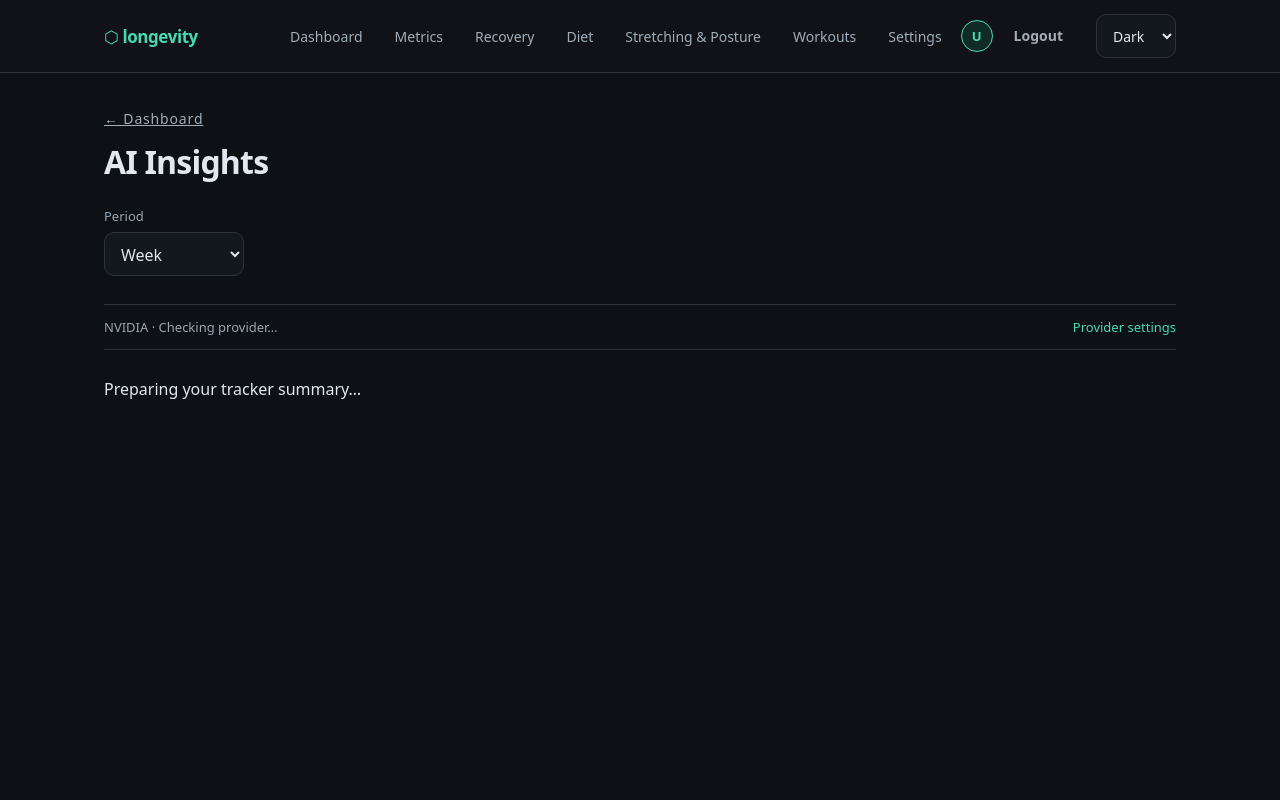
it: uses the selected data period for preview, generation and coverage without retaining another period's suggestions
The width and height of the screenshot is (1280, 800).
Select "Month" in the dropdown named "Data period" at point(174, 254), box [104, 232, 244, 276]
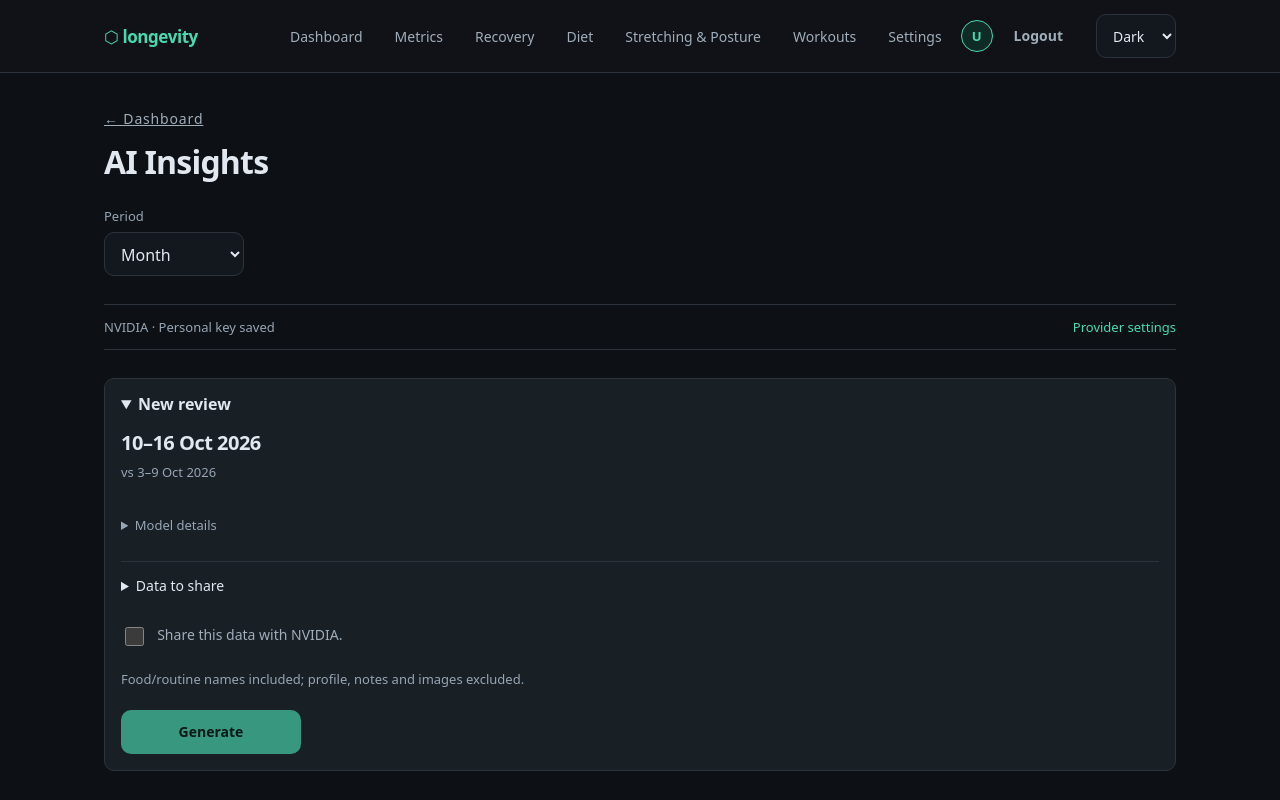
Click the checkbox at point(135, 636), box [125, 627, 144, 646]
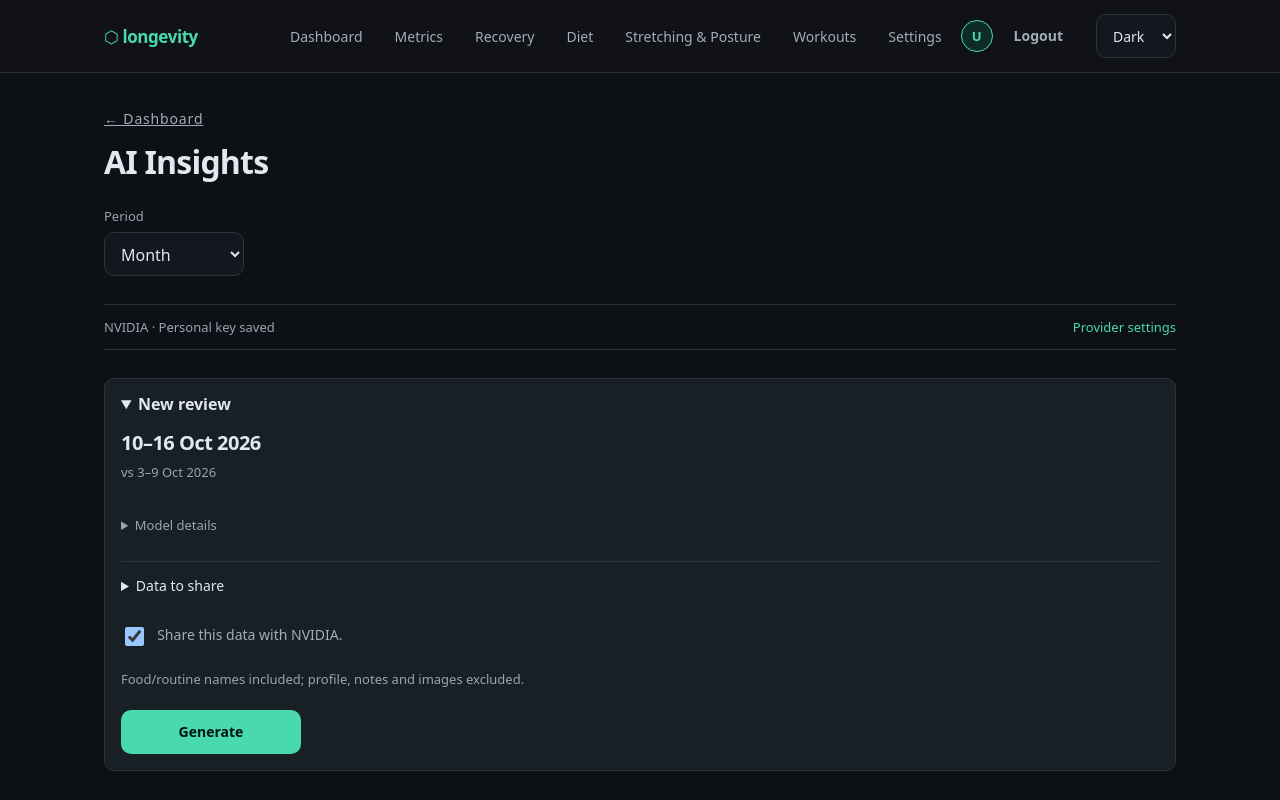
Click the button with aria-label "Generate suggestions" at point(211, 732), box [121, 710, 301, 754]
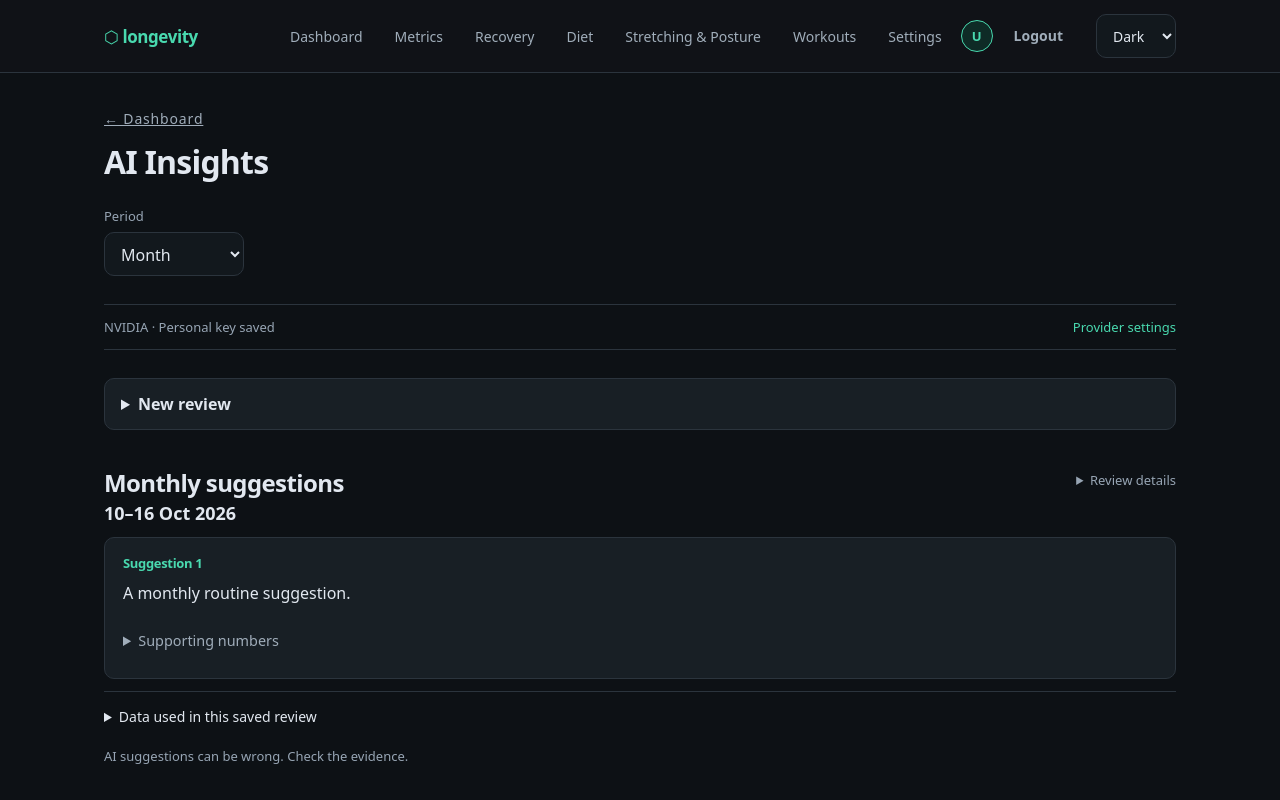
Expected: the text "A monthly routine suggestion." is shown, [123, 582, 350, 604]
Select "Day" in the dropdown named "Data period" at point(174, 254), box [104, 232, 244, 276]
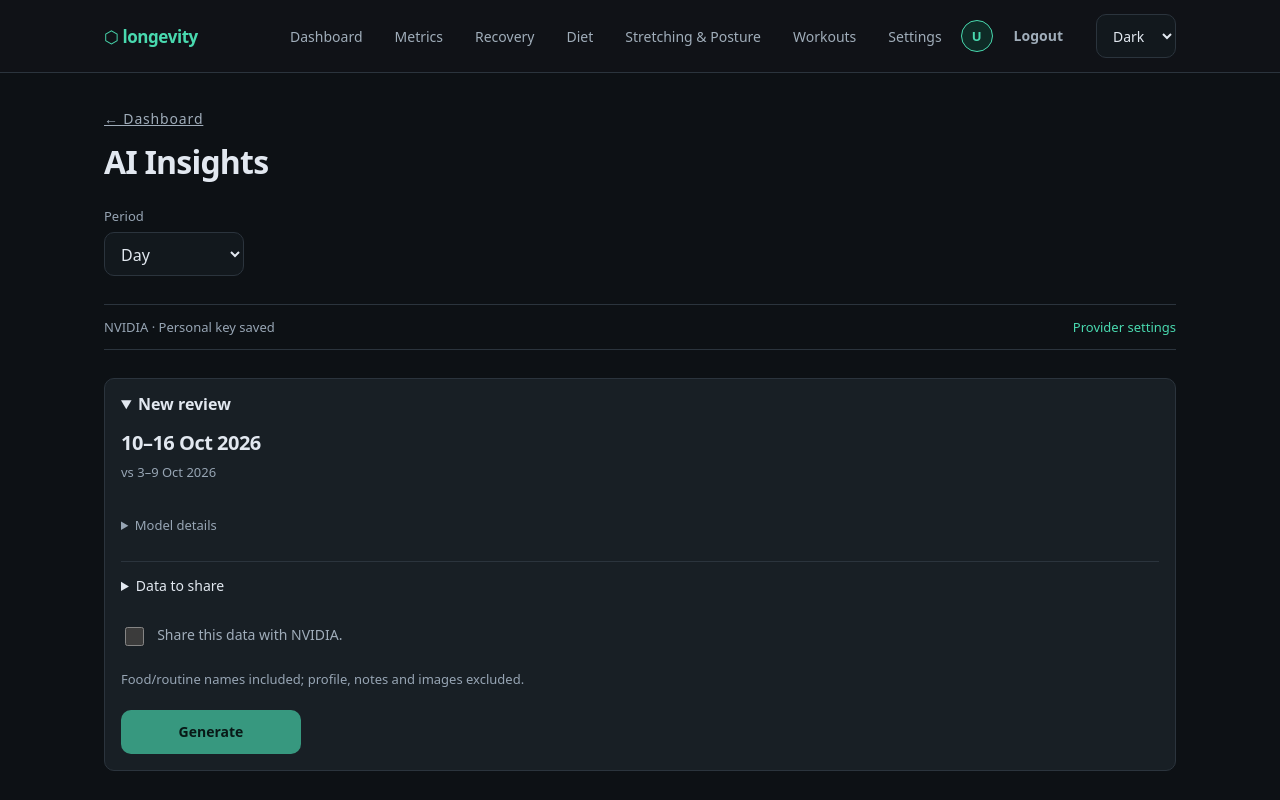
Expected: the text "A monthly routine suggestion." is gone
Expected: the checkbox is not checked, [125, 627, 144, 646]
